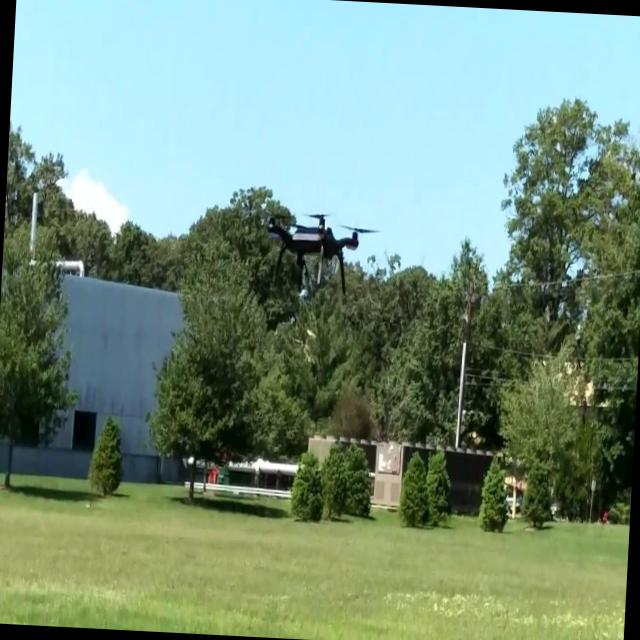drone: (257, 212, 378, 301)
